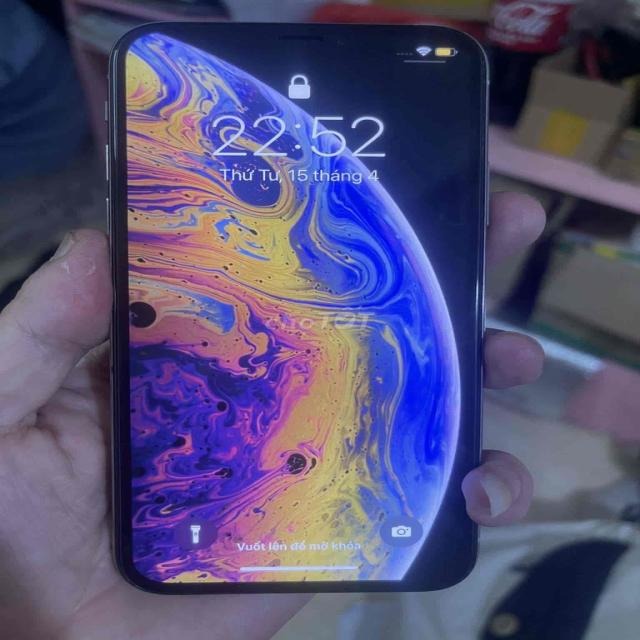gen_x_xs: (105, 23, 489, 595)
